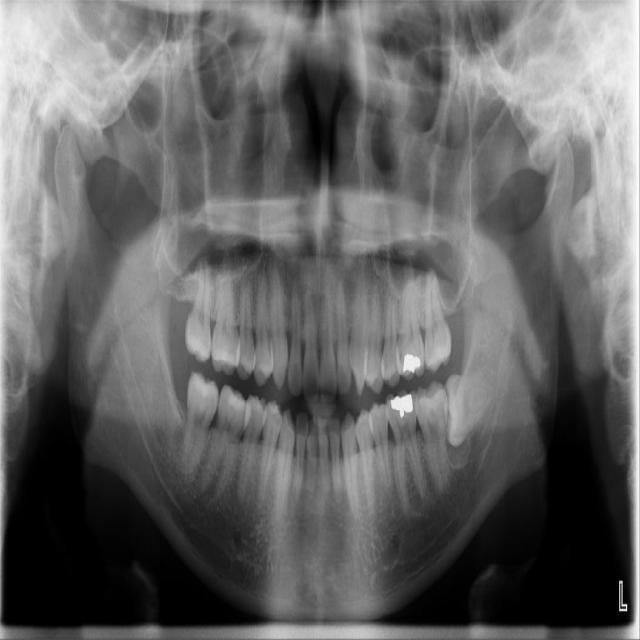52: (382, 387, 421, 426), (396, 336, 425, 382)
BioHorizons Implant: (423, 256, 453, 375)
Biomet 3i Implant: (432, 373, 500, 452)
Blue Sky Bio Implant: (414, 380, 449, 491)
Caries: (185, 260, 212, 363)
Implant: (180, 370, 221, 475)
